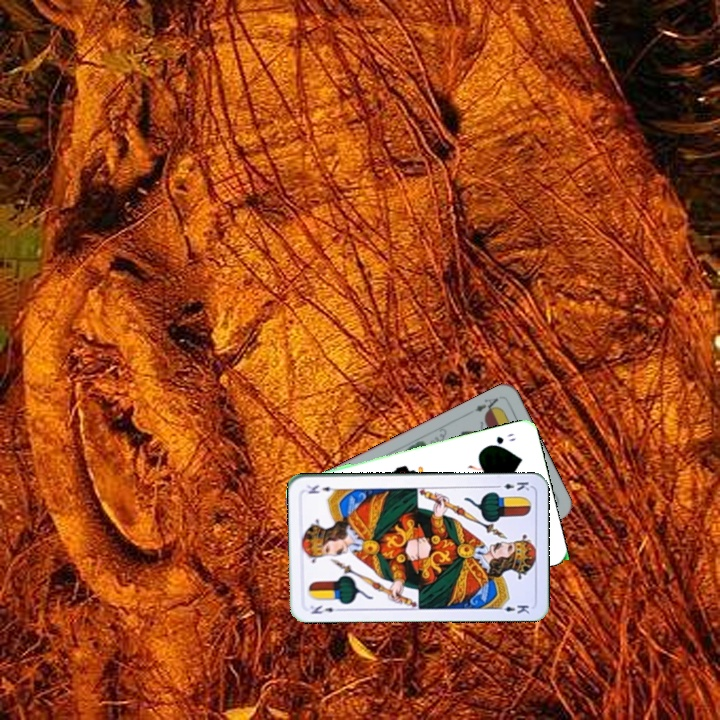EA: (471, 394, 502, 418)
EK: (491, 478, 532, 493), (307, 601, 344, 616)
GO: (483, 429, 517, 450)
